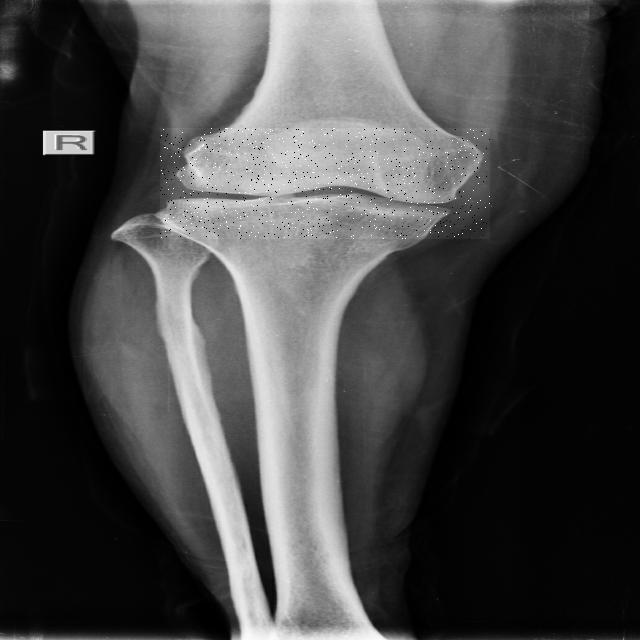normal: (160, 128, 490, 239)
